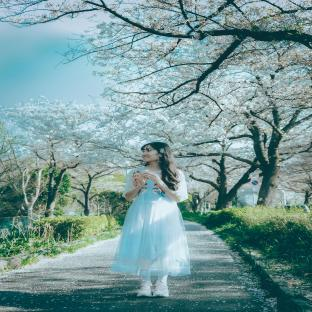Human: (110, 142, 190, 297)
